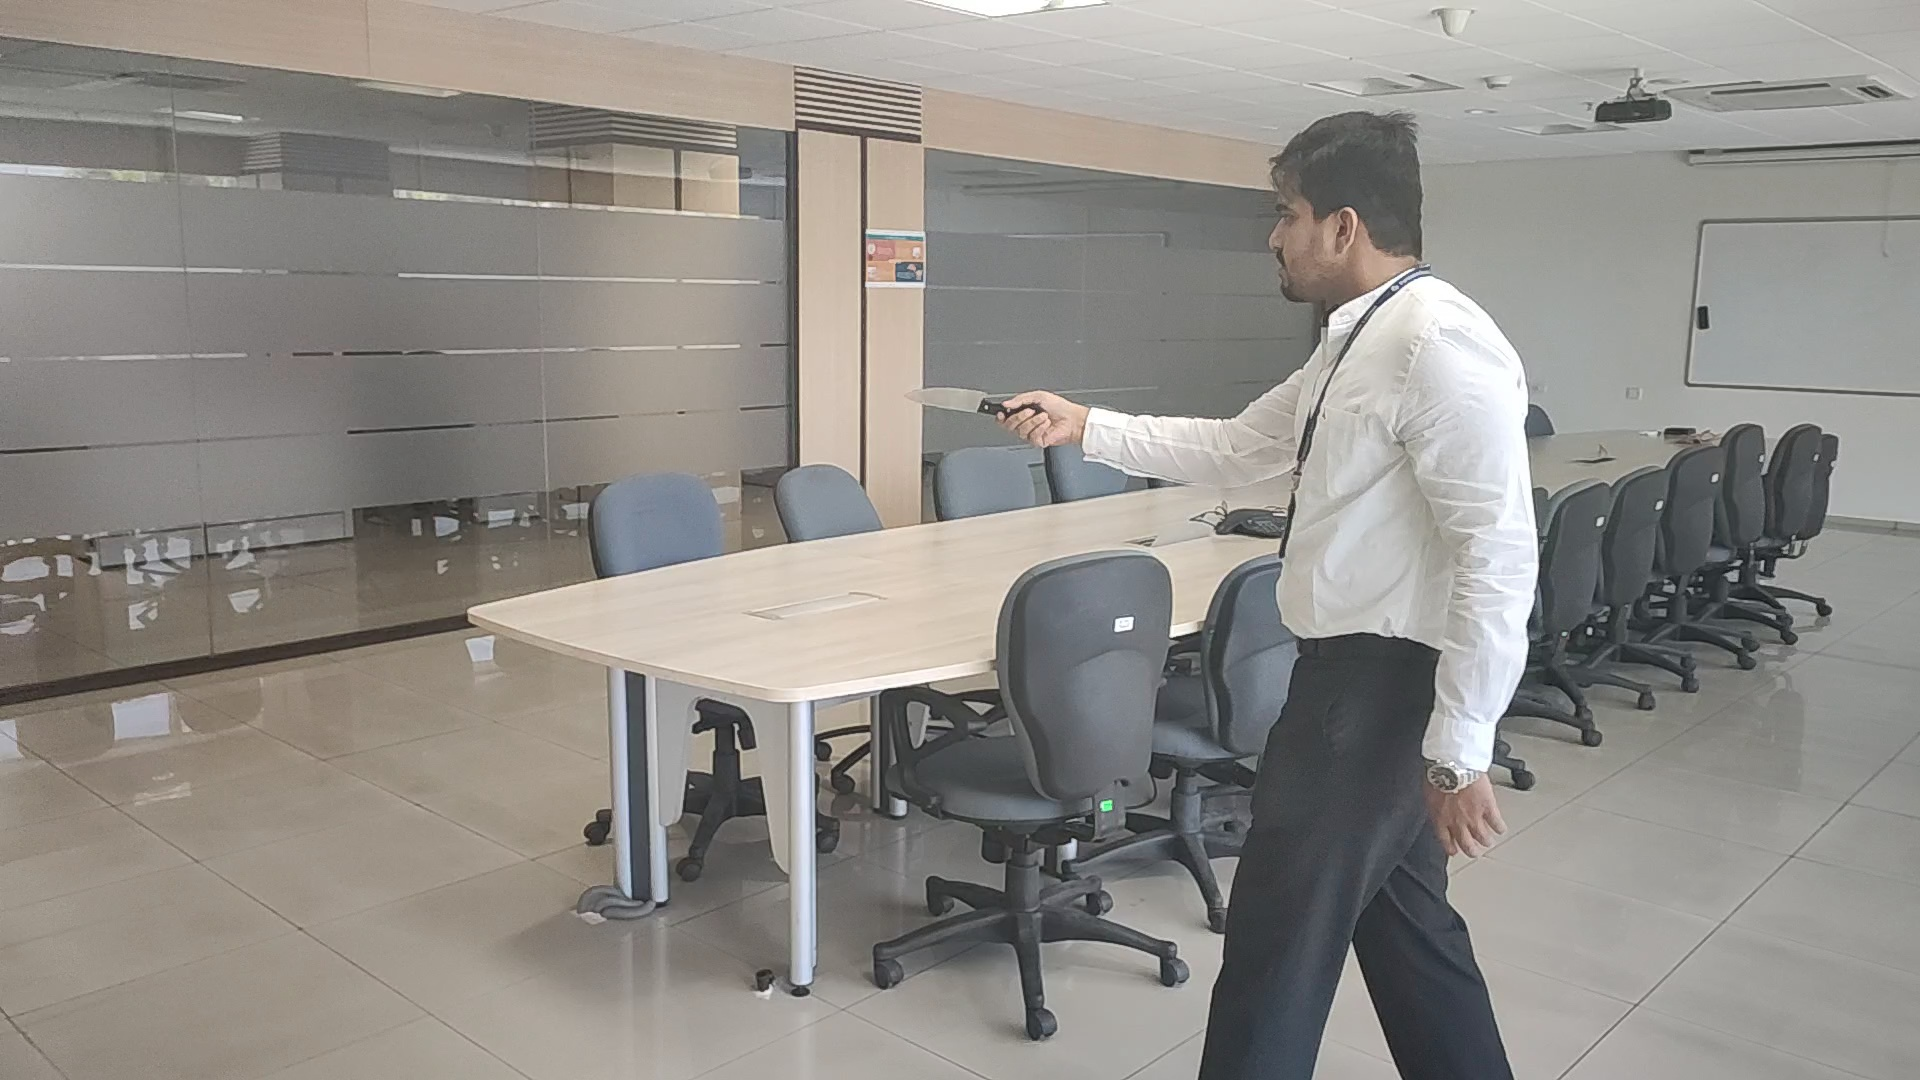knife: (905, 385, 994, 417)
